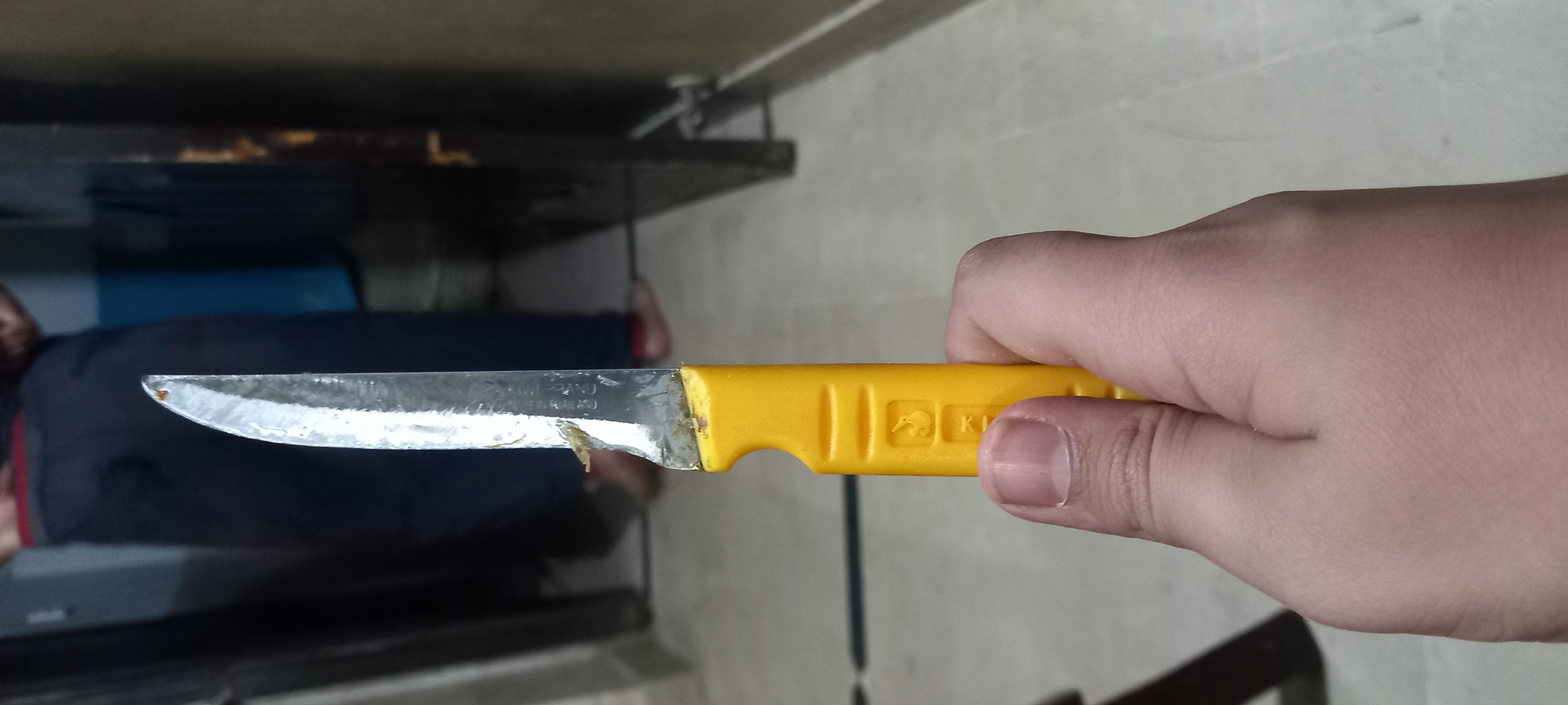knives: (443, 57, 818, 517)
